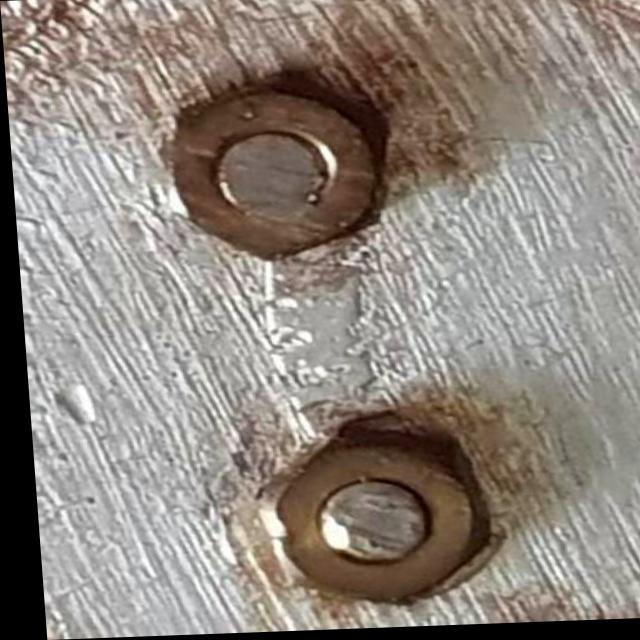Regular bolt: (152, 80, 392, 263), (252, 427, 486, 612)
